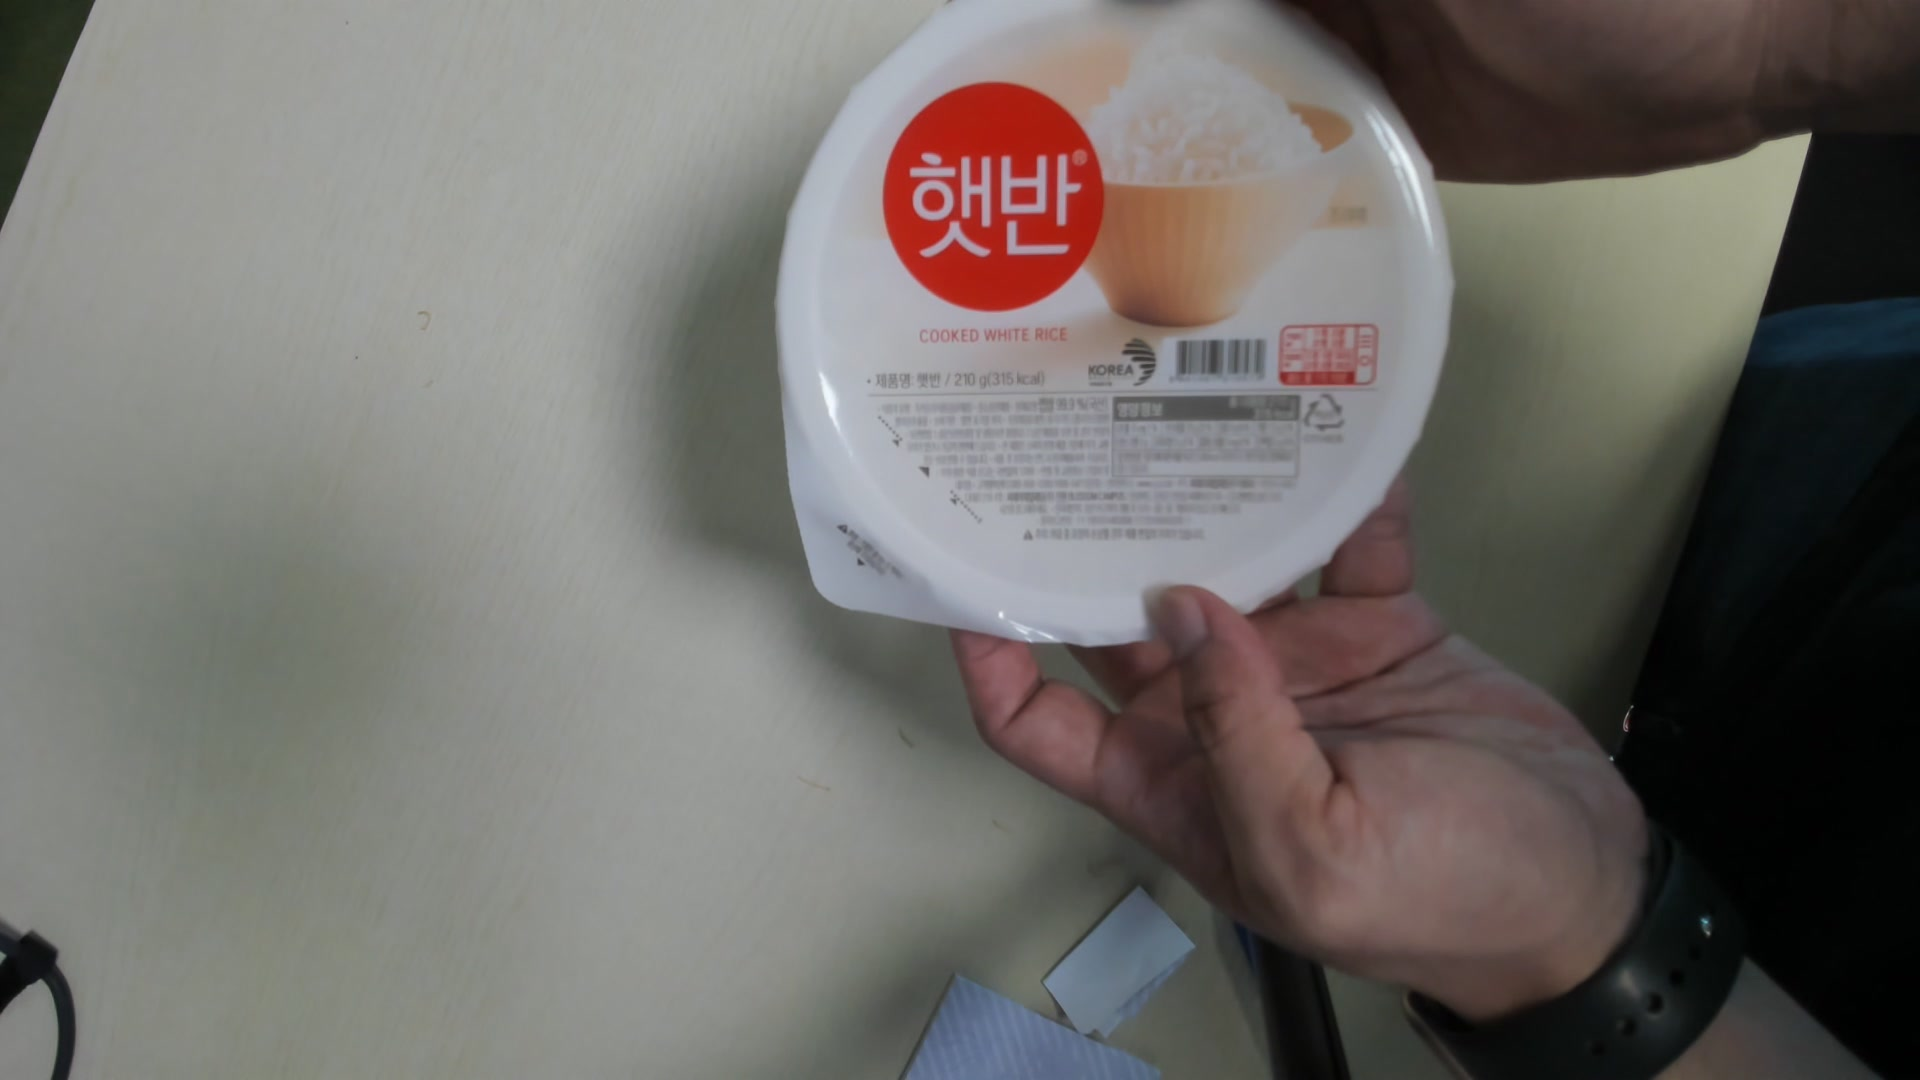Pasta_500-599g_Halal_NonHealthy: (774, 1, 1451, 659)
